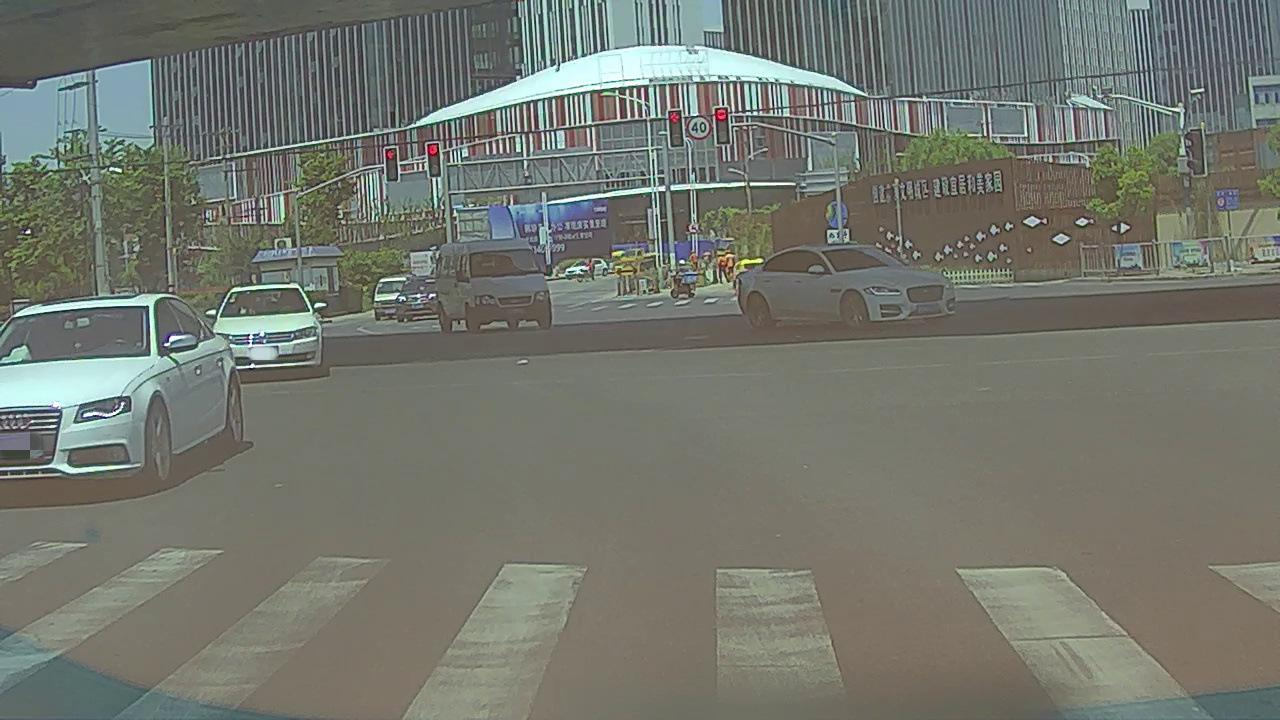traffic_light: (667, 110, 683, 146), (715, 107, 730, 145), (428, 142, 441, 177), (385, 148, 398, 181)
